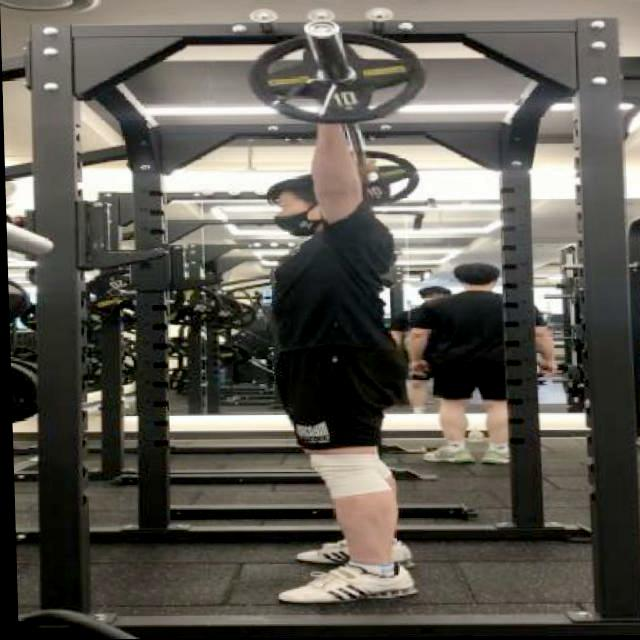barbell: (246, 20, 429, 128)
